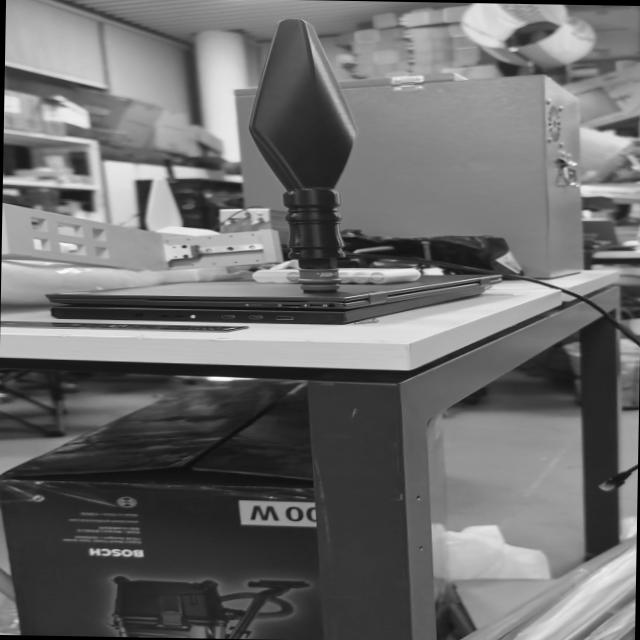base: (296, 266, 342, 298)
